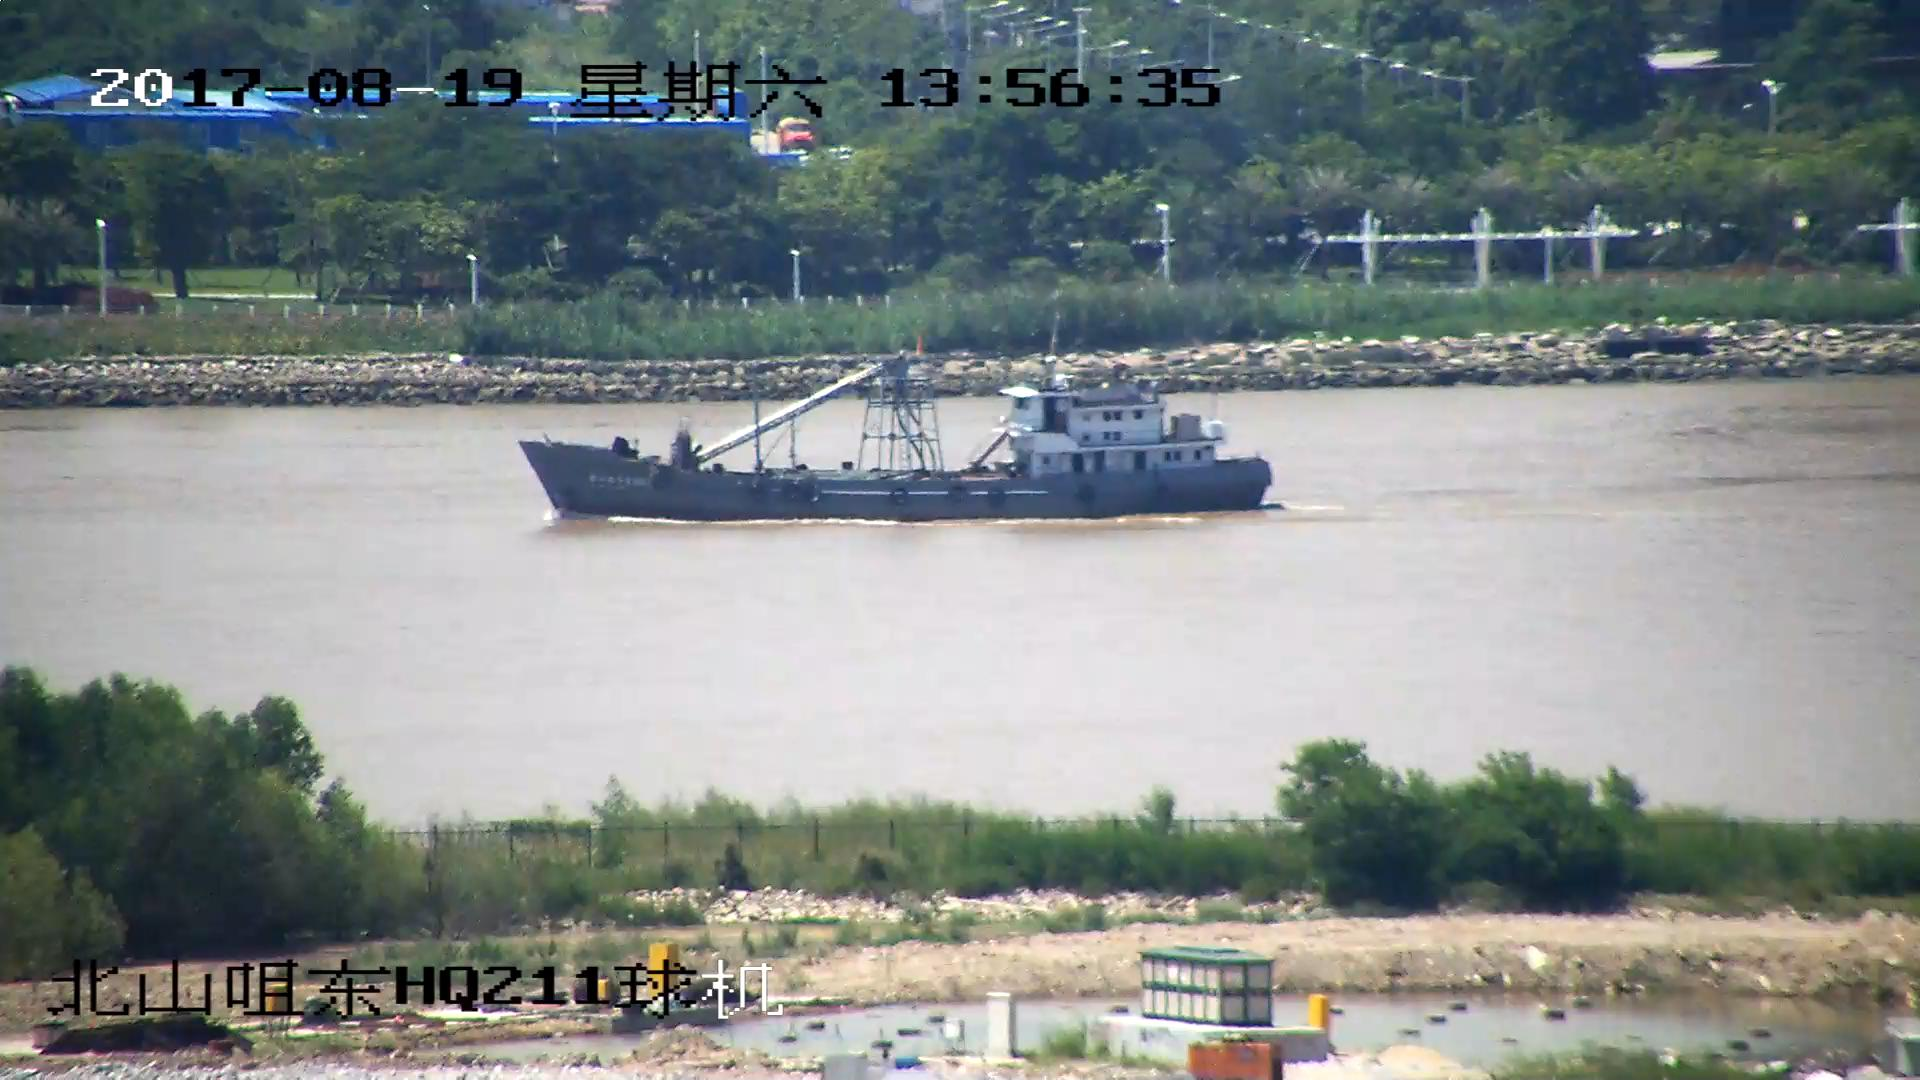fishing boat: (523, 356, 1273, 521)
